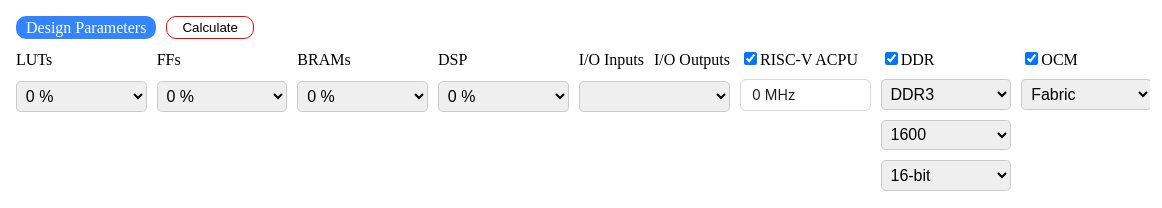
DesignParametesTable Component › handles changing ACPU frequency input
Replace the text in the number field showing "0 MHz" with "400" at (805, 95), box 741,80 -> 870,110
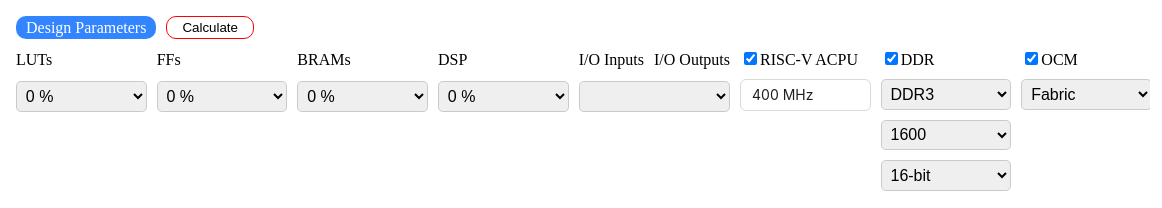
expect the number field showing "0 MHz" holds "400 MHz": met, box 741,80 -> 870,110
